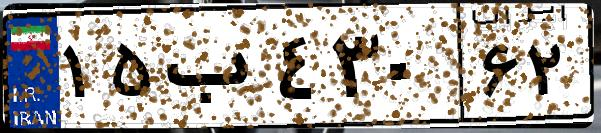0: (385, 28, 445, 110)
1: (57, 26, 110, 100)
2: (525, 38, 570, 115)
3: (330, 28, 385, 110)
4: (270, 28, 330, 110)
5: (110, 28, 158, 98)
6: (475, 38, 525, 113)
ب: (158, 20, 270, 120)
